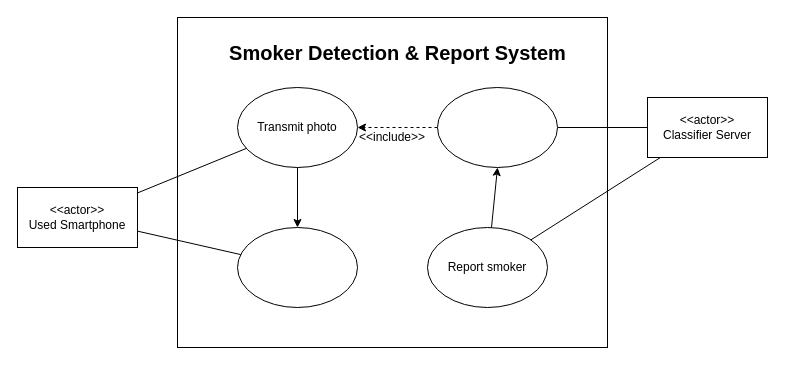
Image size: 785x365. Some labels were removed from this diagram. Each missing label, with the centre of its shape:
Classify Smoker: pixel 497 127
Detect person: pixel 297 267
